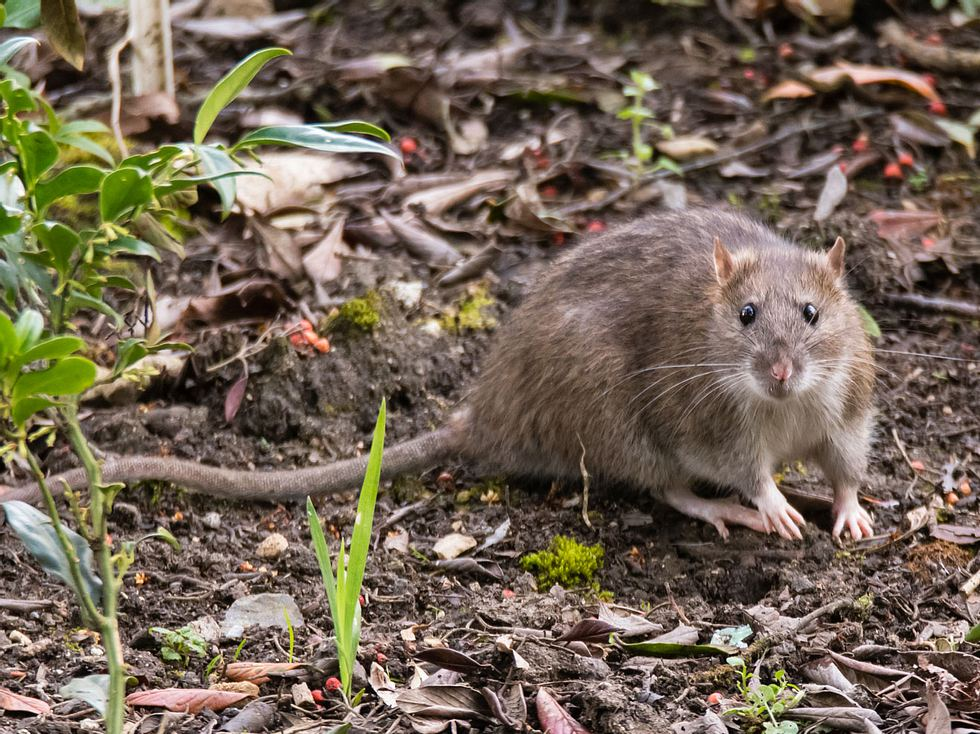rat: (349, 201, 889, 554)
